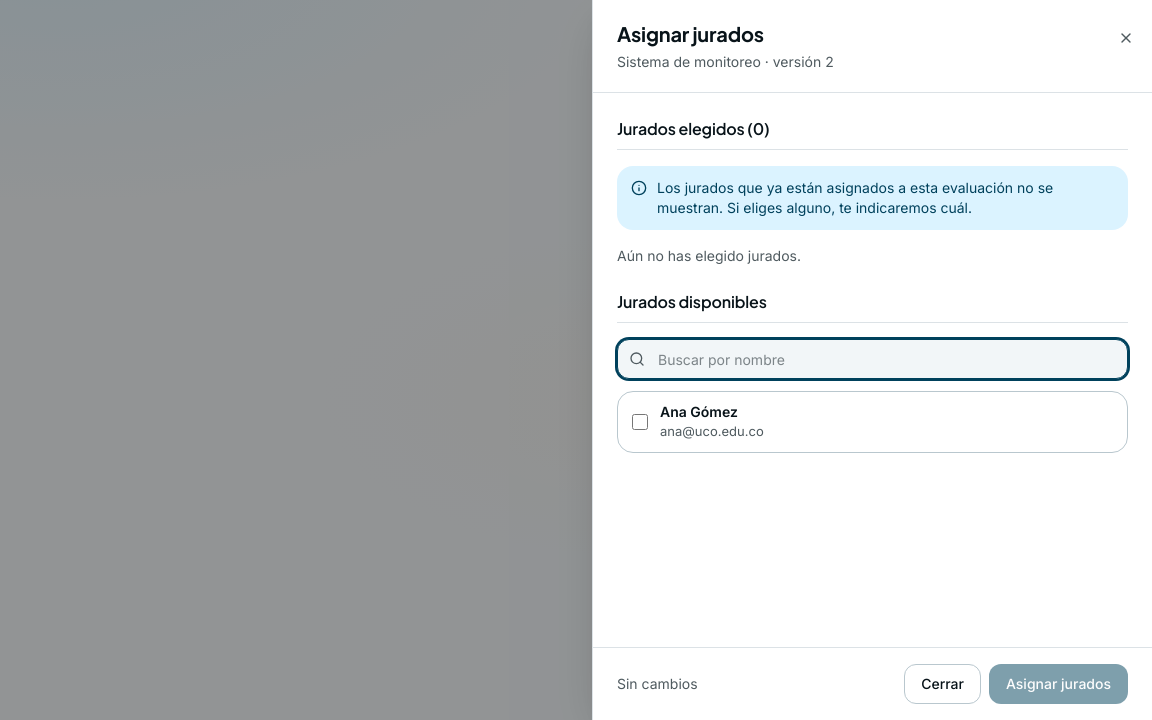
AsignarJuradosEvaluacionPanel › sin coincidencias muestra "Sin resultados" y "Limpiar búsqueda" vuelve a pedir la lista sin texto
Type "zzz" into the field named "Buscar jurados" at (872, 359), box x1=617 y1=339 x2=1128 y2=379
Wait 300 ms
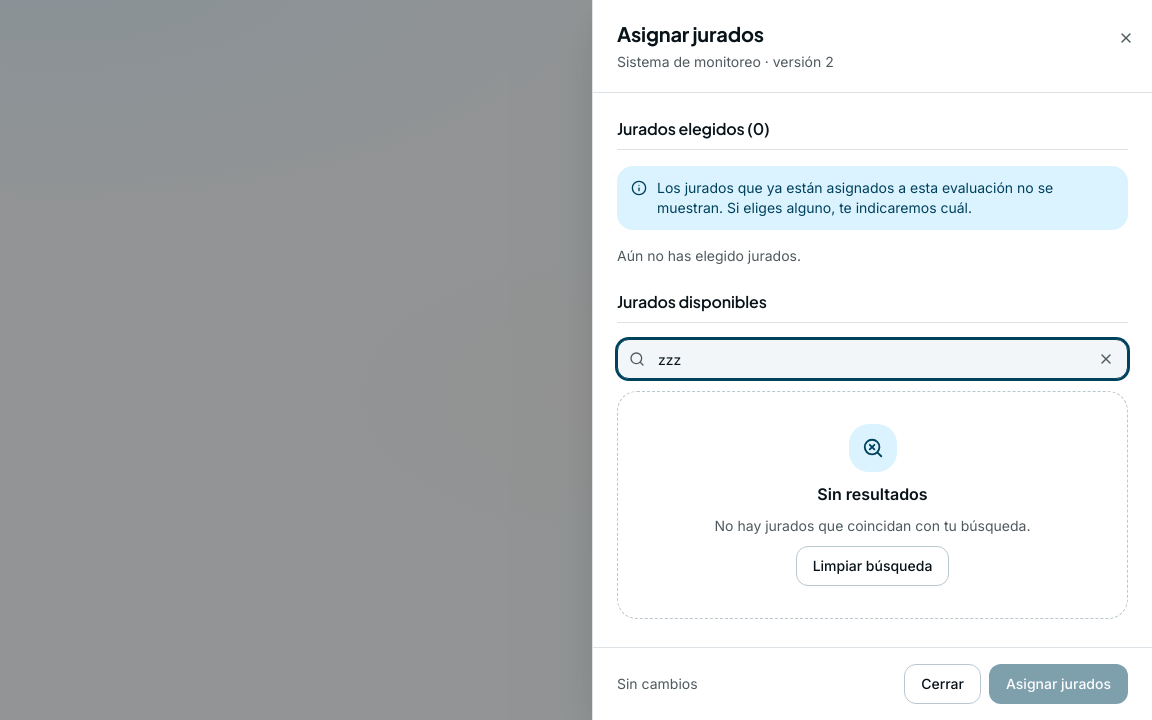
Expected: the text "Sin resultados" is shown, x1=817 y1=482 x2=928 y2=506
Click the button "Limpiar búsqueda" at (873, 566), box x1=796 y1=546 x2=949 y2=586
Wait 300 ms
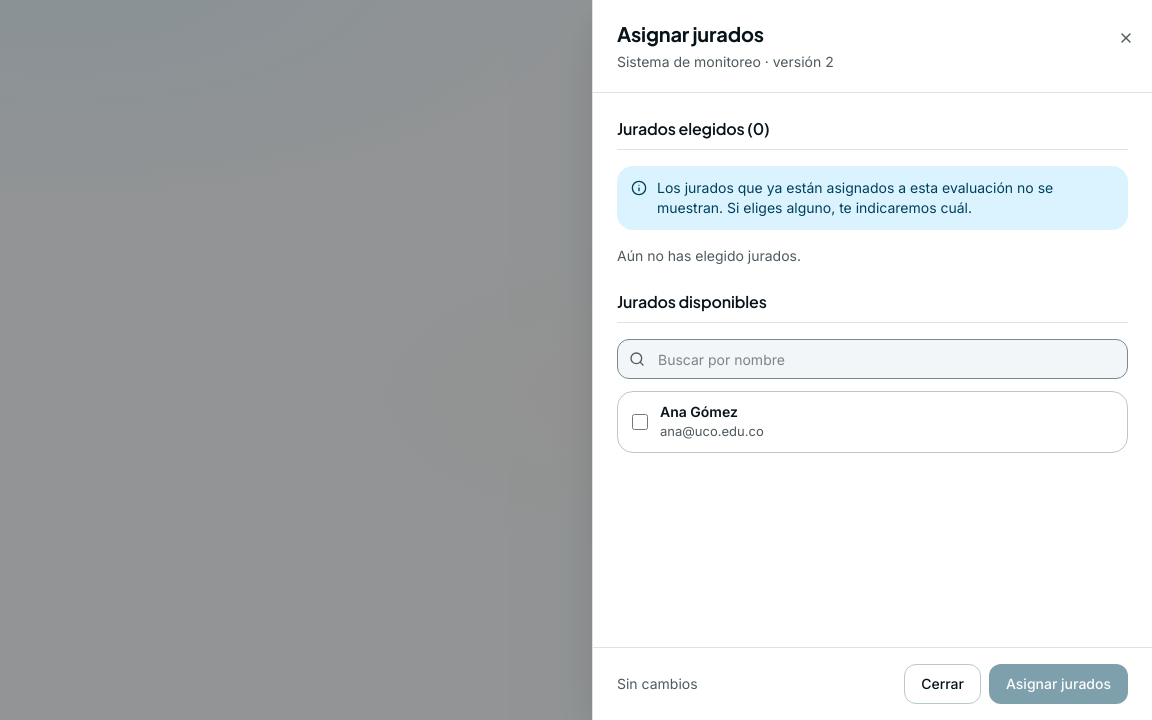
Expected: the checkbox labelled "Ana Gómez ana@uco.edu.co" is shown, x1=632 y1=414 x2=648 y2=430
Expected: the field named "Buscar jurados" is empty, x1=617 y1=339 x2=1128 y2=379
